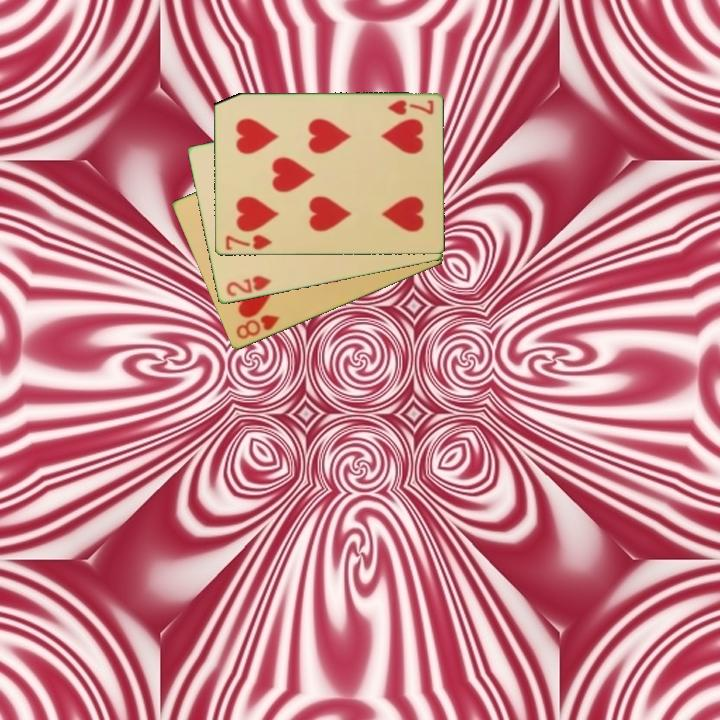2h: (222, 272, 274, 300)
7h: (222, 231, 274, 253), (384, 96, 436, 118)
8h: (232, 311, 282, 343)
